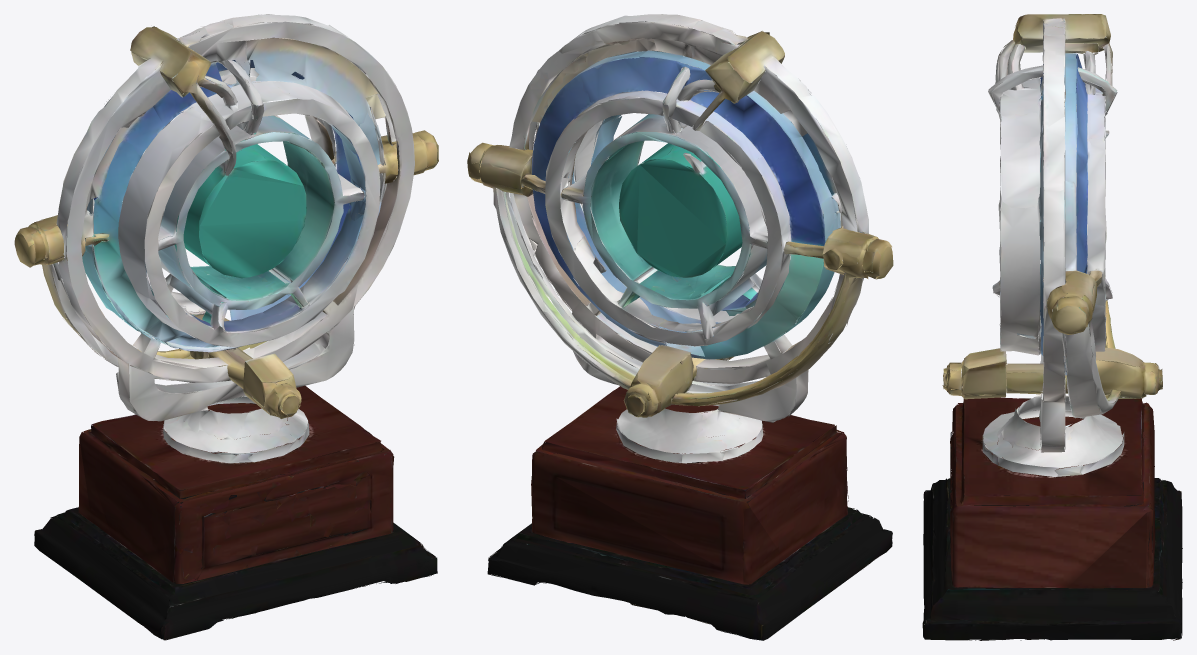
The model's file is trophy-ssat-v3-lod.glb.
The picture shows the model from 3 angles, left to right: view 1: azimuth 30°, elevation 25°; view 2: azimuth 150°, elevation 25°; view 3: azimuth 270°, elevation 25°; orthographic projection.
Parts seen in each view (by area): view 1: world; view 2: world; view 3: world.
Boxes of the visible parts, x1,y1,x2,y2 form: world: (14, 14, 438, 640); world: (467, 14, 893, 640); world: (922, 14, 1182, 640).
Bounding box in the file's own units: 0.8021 × 1 × 0.4425.
Materials: 1 (1 with a texture image).
